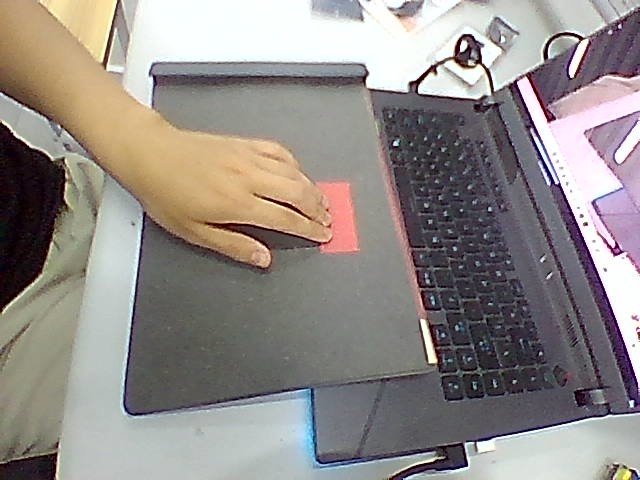card: (320, 183, 359, 252)
